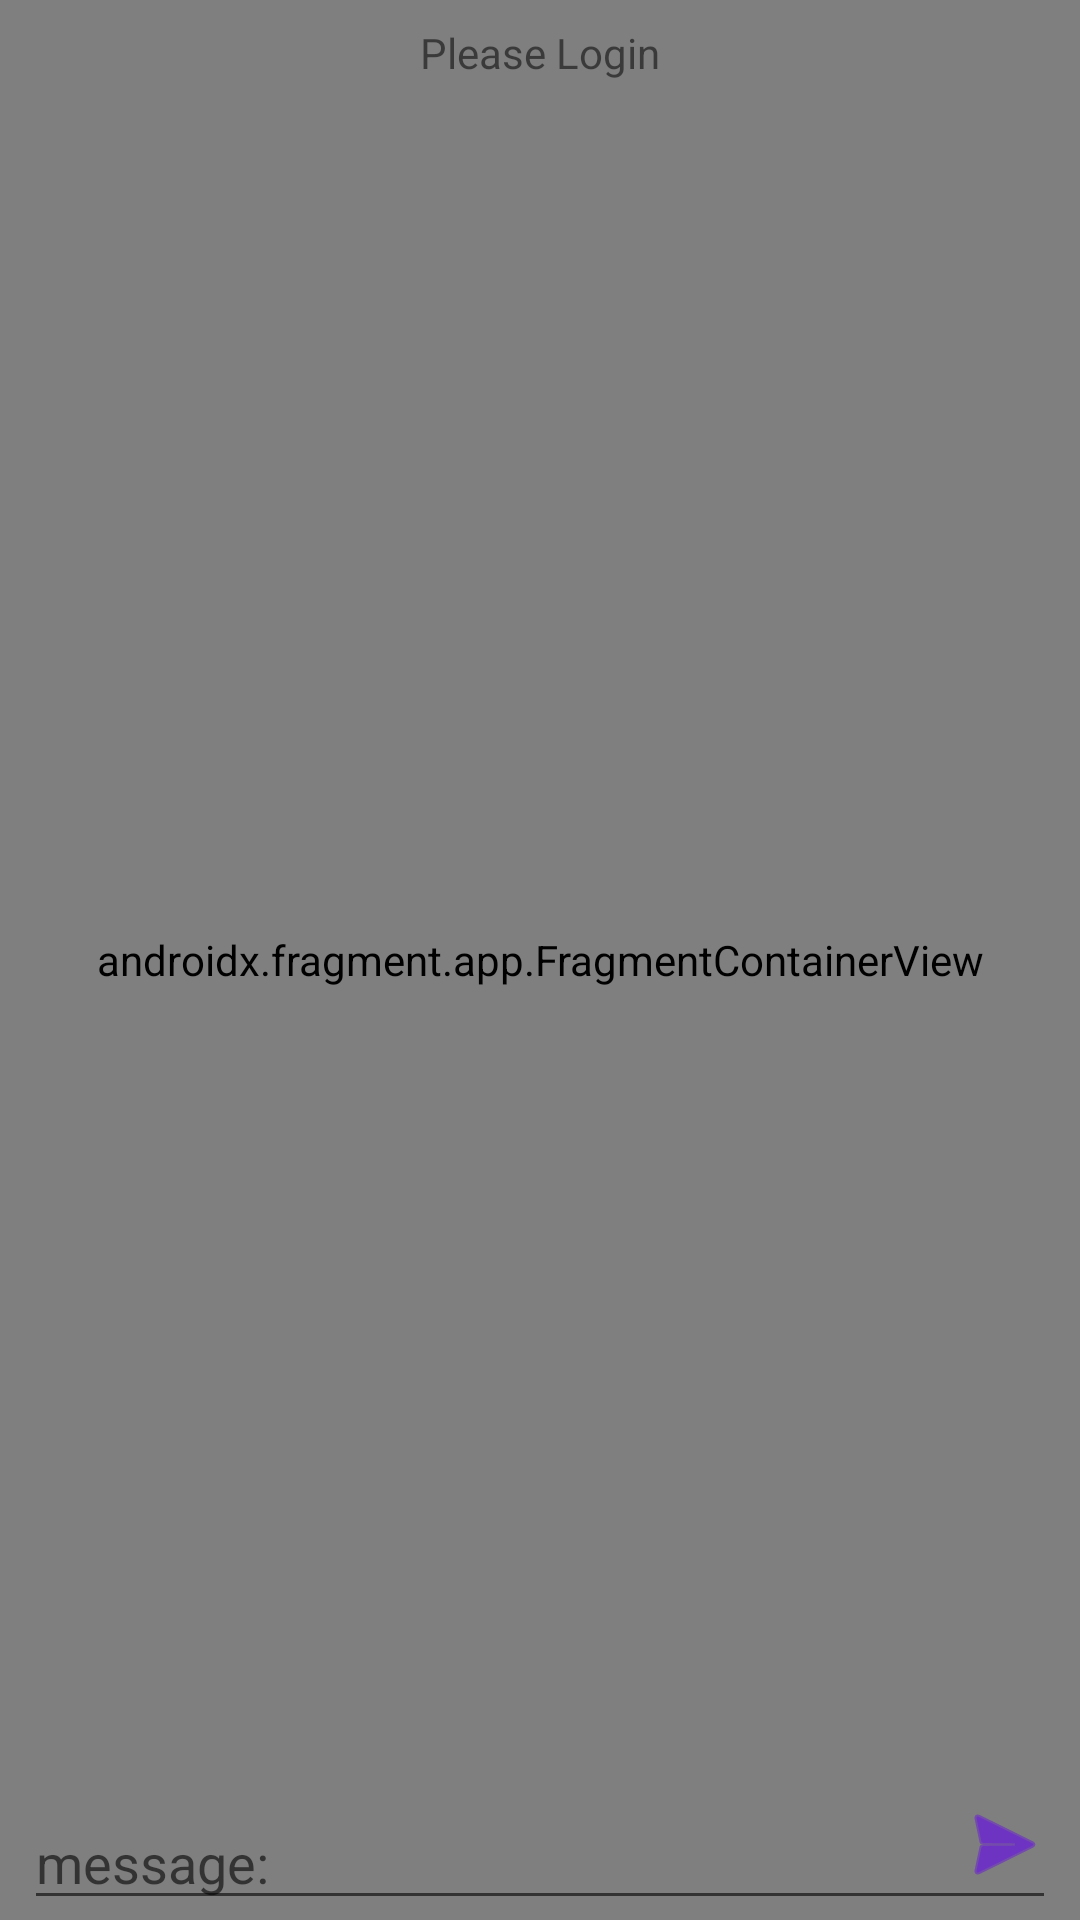

Icon click points for this 1080*1920 phone screenshot, format [x,y]:
send: [1004,1845]
